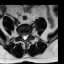CCS_normal: (23, 32, 25, 42)
LFS_stenosis: (28, 31, 30, 37)
LLS_normal: (25, 32, 28, 40)
RFS_stenosis: (19, 31, 21, 38)
RLS_normal: (21, 32, 23, 40)
